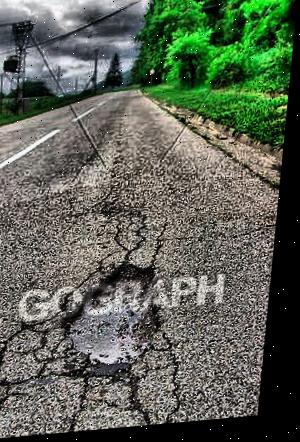pothole: (60, 260, 176, 384)
